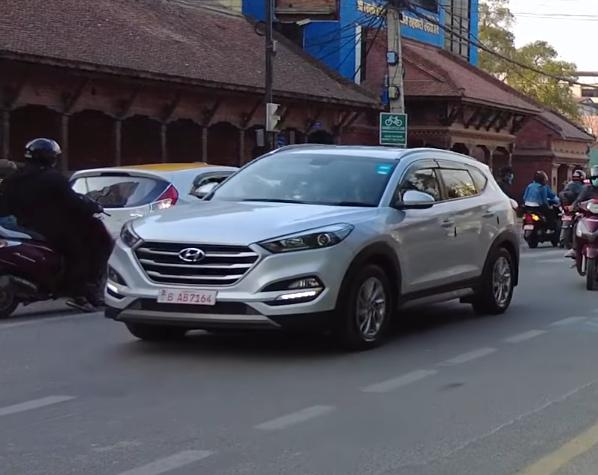car: (106, 141, 531, 348)
scooter: (0, 190, 121, 319), (564, 198, 598, 288)
